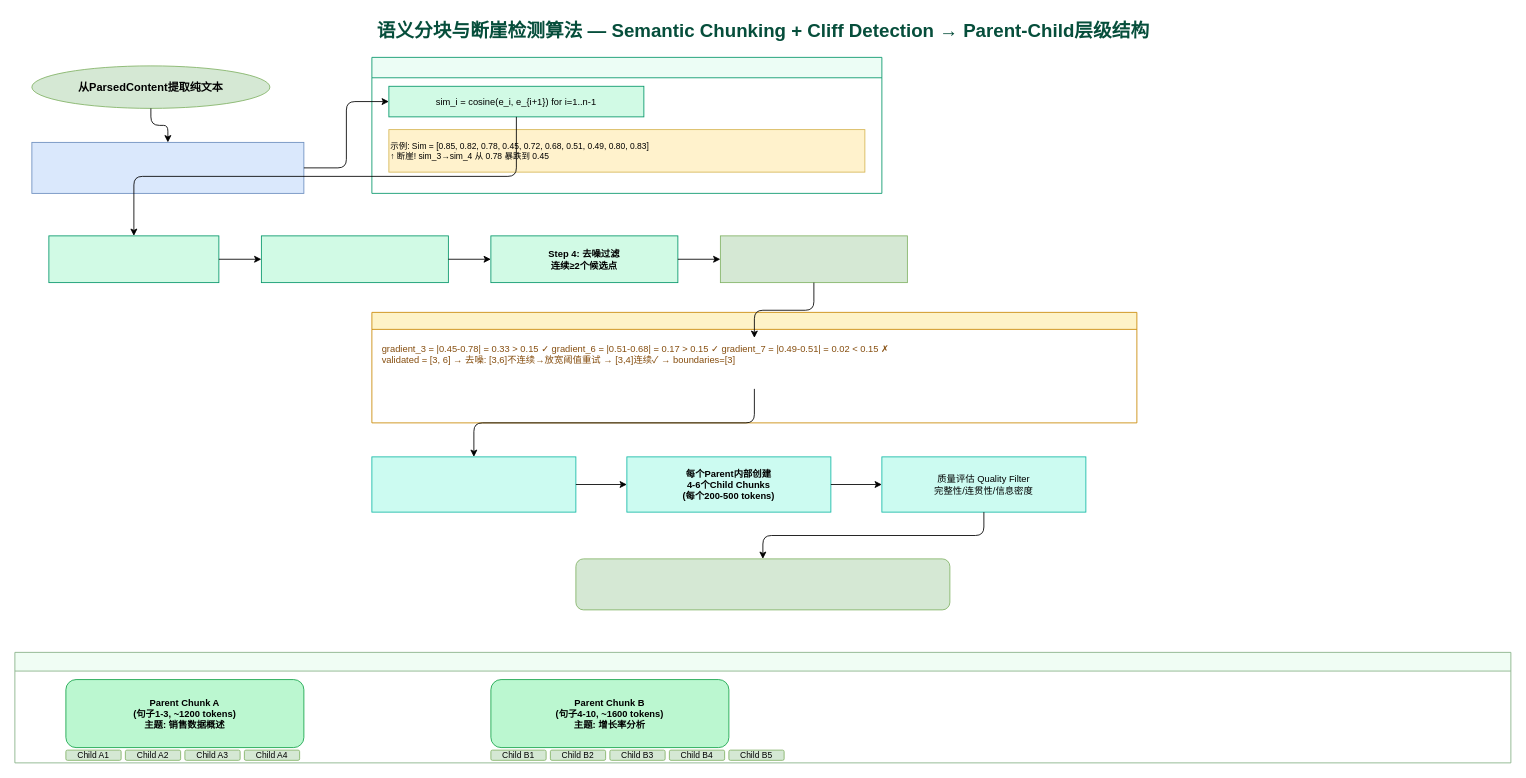
The diagram is 1526 pixels wide and 778 high, and some of its shapes have lost their labels. Each missing label, with the box of its shape:
Step 1: 相邻相似度计算: (371, 57, 882, 193)
Step 2: 候选取筛选 sim_i < 0.7: (48, 235, 219, 283)
Step 3: 梯度验证 |sim_i - sim_{i-1}| > 0.15: (261, 235, 448, 283)
Step 5: 选最终边界 相邻断崖取梯度最大: (720, 235, 907, 283)
句子切分 + Embedding (multilingual-e5-small, 384维) → E = [e1, e2, e3, ..., en]: (31, 142, 304, 193)
在boundaries切分文本 → Parent Chunks (每个1000-2000 tokens): (371, 456, 576, 512)
存储到 HierarchicalStore 建立父子映射关系 child.parentId → parent.chunkId: (575, 558, 950, 610)
层级结构示意: (14, 652, 1511, 763)
梯度验证示例: (371, 312, 1137, 423)
